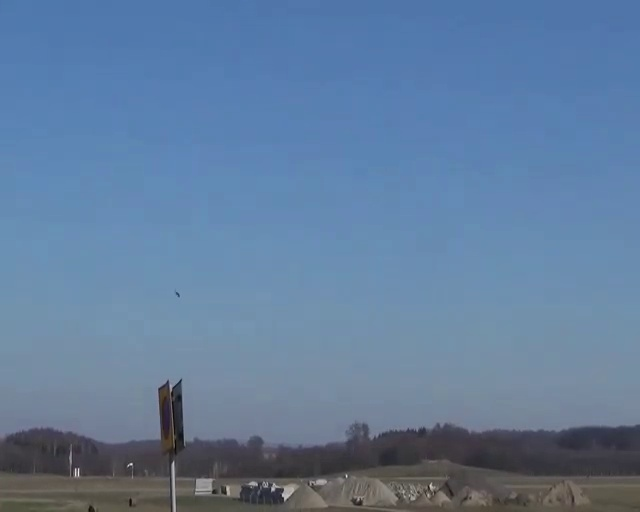BIRD: (173, 289, 181, 298)
